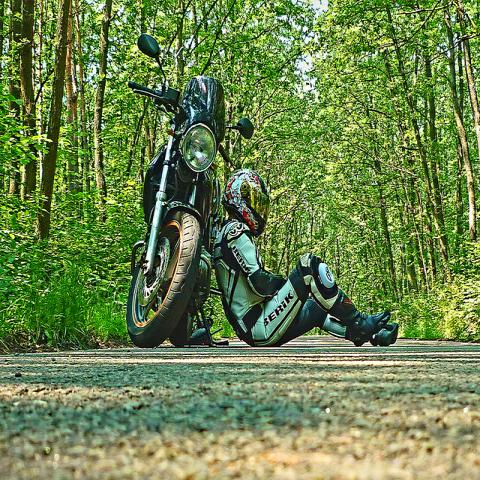motorcycle: (122, 32, 255, 350)
